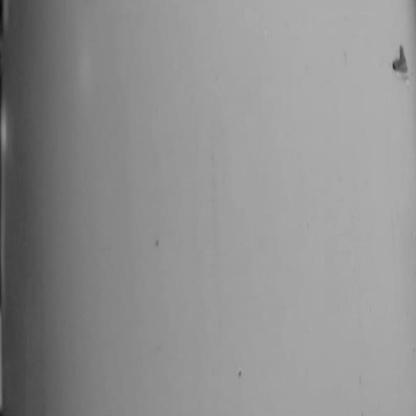kongdong: (384, 35, 414, 88)
